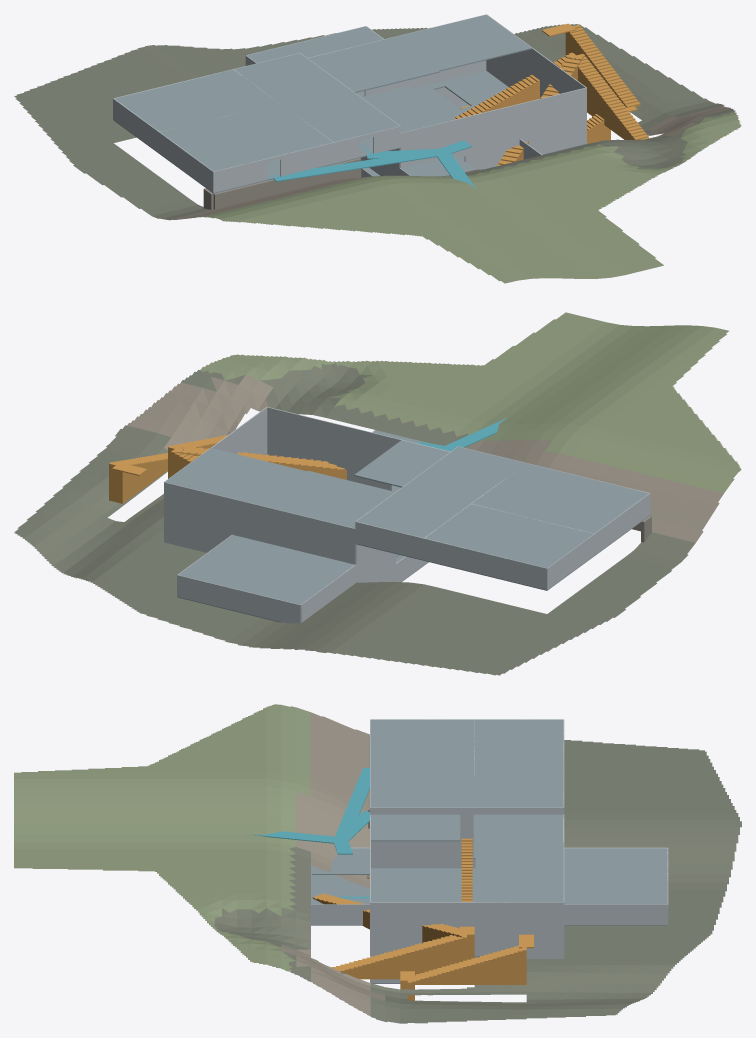
The model's file is supported-terrain.glb.
3 views of the same model, one above another, from view 1: azimuth 30°, elevation 25°; view 2: azimuth 150°, elevation 25°; view 3: azimuth 270°, elevation 25° (orthographic). The views are drawn at different scales.
Visible parts, largest first — view 1: Saved editor macroterrain WLD-09, Ceiling cap west-stair, Ceiling cap control, Wall turbine S.001, Ceiling cap office, Ceiling cap turbine.006, Wall turbine E, Ceiling cap turbine.003, Ceiling cap turbine, Ceiling cap plant, Ceiling cap turbine.004, Wall turbine S (+11 smaller); view 2: Saved editor macroterrain WLD-09, Ceiling cap west-stair, Ceiling cap control, Ceiling cap plant, Wall turbine N.001, Ceiling cap office, Wall turbine S.001, Ceiling cap turbine.006, Wall office N, Wall plant N, Ceiling cap turbine, Ceiling cap turbine.003 (+8 smaller); view 3: Saved editor macroterrain WLD-09, Wall turbine E, Ceiling cap west-stair, Ceiling cap control, Ceiling cap plant, Ceiling cap office, Ceiling cap turbine.006, Wall turbine W, Ceiling cap turbine.003, Ceiling cap turbine, Wall plant E, Floor turbine.002 (+9 smaller).
Part boxes in pixels (x1,y1,x2,y2): Saved editor macroterrain WLD-09: (14,24,741,283); Ceiling cap west-stair: (234,53,399,142); Ceiling cap control: (160,103,332,171); Wall turbine S.001: (464,87,586,169); Ceiling cap office: (115,69,278,131); Ceiling cap turbine.006: (394,14,531,71); Wall turbine E: (486,14,586,98); Ceiling cap turbine.003: (362,86,454,132); Ceiling cap turbine: (308,46,400,91); Ceiling cap plant: (246,26,382,63); Ceiling cap turbine.004: (355,37,438,79); Wall turbine S: (400,120,455,168); Saved editor macroterrain WLD-09: (14,312,741,675); Ceiling cap west-stair: (356,446,526,537); Ceiling cap control: (472,463,648,533); Ceiling cap plant: (178,535,354,604); Wall turbine N.001: (164,482,288,550); Ceiling cap office: (425,504,593,567); Wall turbine S.001: (267,407,391,490); Ceiling cap turbine.006: (165,448,306,505); Wall office N: (424,538,547,589); Wall plant N: (177,575,300,623); Ceiling cap turbine: (300,481,394,528); Ceiling cap turbine.003: (355,440,449,485); Saved editor macroterrain WLD-09: (14,704,741,1023); Wall turbine E: (370,902,563,956); Ceiling cap west-stair: (370,776,563,807); Ceiling cap control: (370,719,474,776); Ceiling cap plant: (564,848,667,904); Ceiling cap office: (474,719,563,776); Ceiling cap turbine.006: (475,858,563,902); Wall turbine W: (371,814,475,868); Ceiling cap turbine.003: (370,814,458,841); Ceiling cap turbine: (475,814,563,840); Wall plant E: (564,904,667,924); Floor turbine.002: (416,868,475,901).
Size of the model in its own units: 85 by 13.16 by 98.
Materials: 25 (17 with a texture image).
